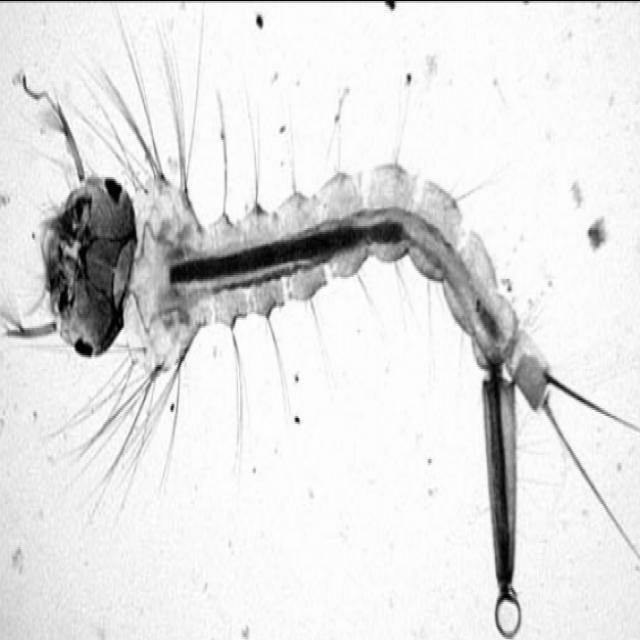larvas: (39, 112, 618, 630)
